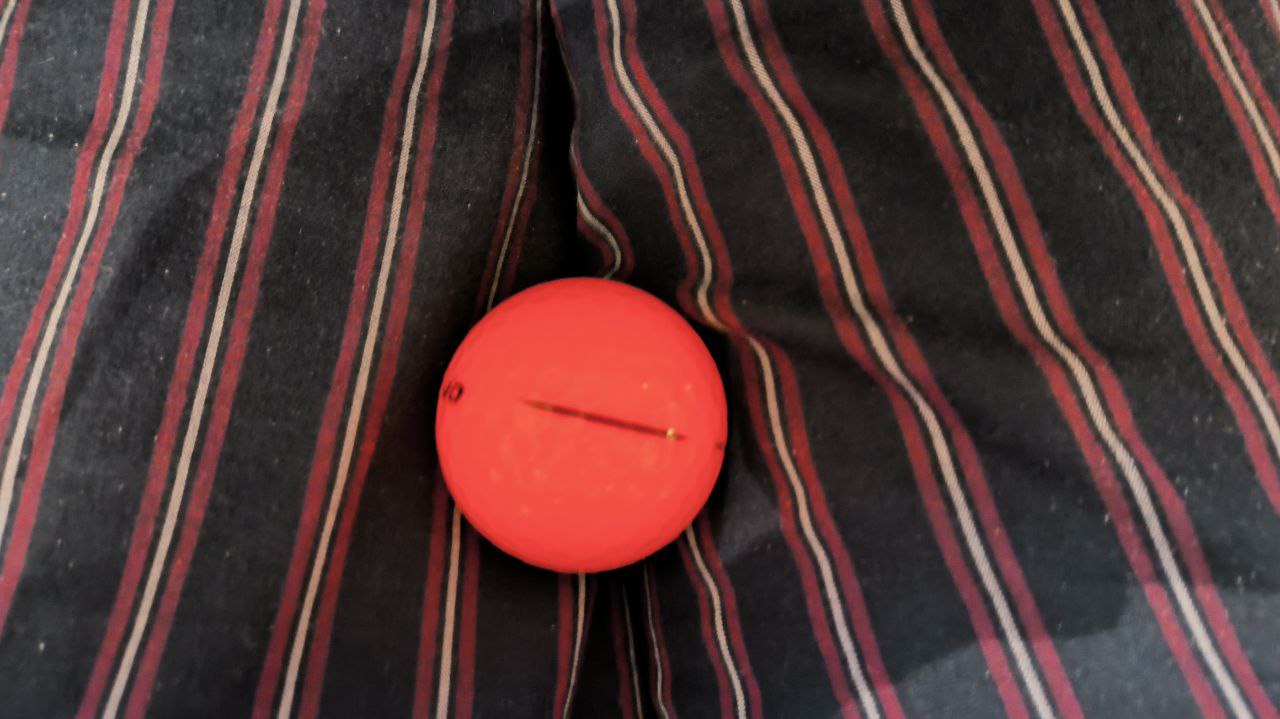orange_ball: (434, 275, 730, 574)
